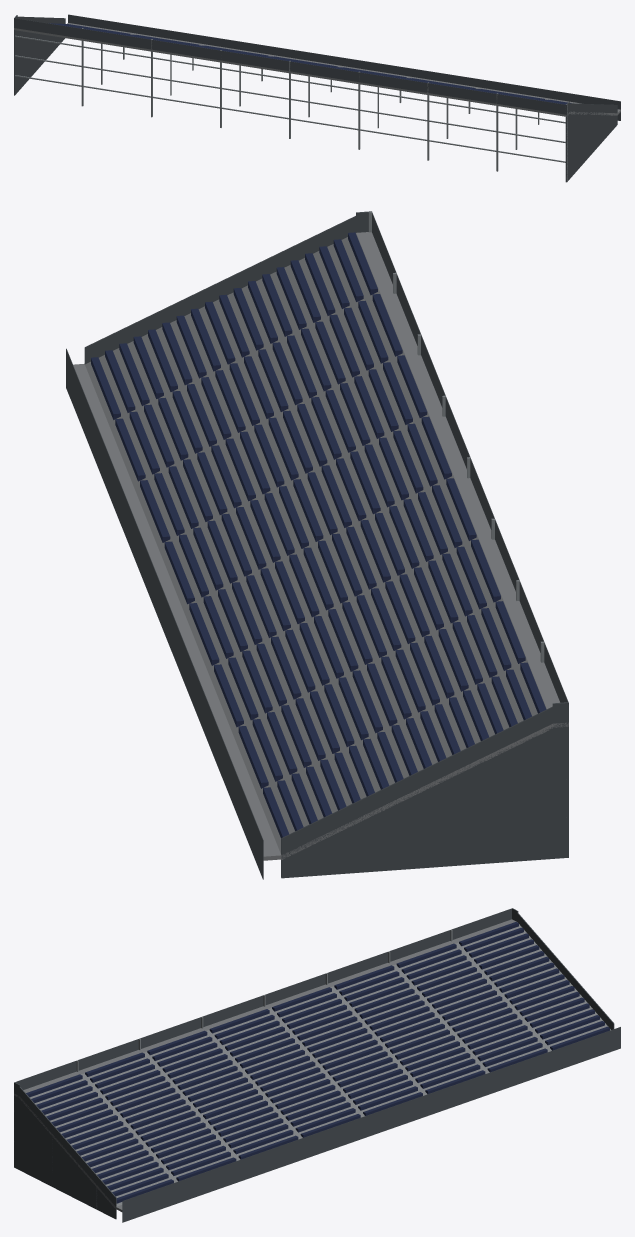
File: sil_stand_club_a.glb
The picture shows the model from 3 angles, top to bottom: view 1: azimuth 30°, elevation 25°; view 2: azimuth 150°, elevation 25°; view 3: azimuth 270°, elevation 25°; orthographic projection. The views are drawn at different scales.
Parts seen in each view (by area): view 1: silverstone-club-a; view 2: silverstone-club-a; view 3: silverstone-club-a.
Part boxes in pixels (x1=…): silverstone-club-a: x1=14, y1=14, x2=620, y2=182; silverstone-club-a: x1=66, y1=211, x2=568, y2=879; silverstone-club-a: x1=14, y1=908, x2=620, y2=1222.
Size of the model in its own units: 54.74 by 9.44 by 61.12.
